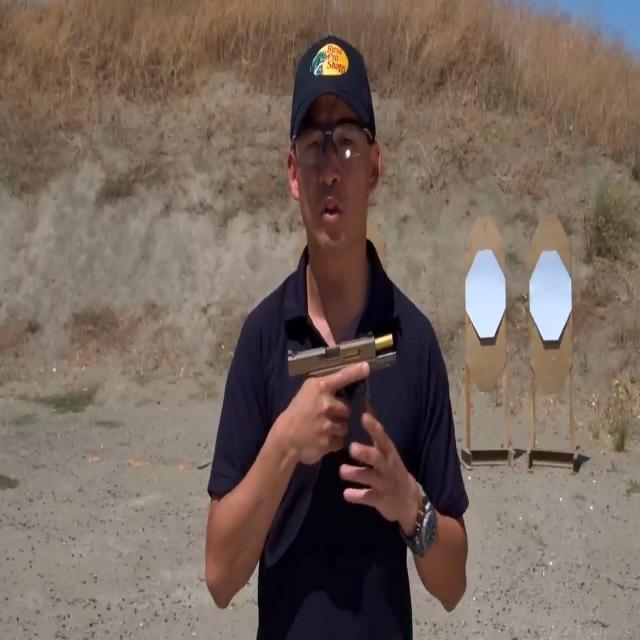gun: (286, 330, 400, 388)
